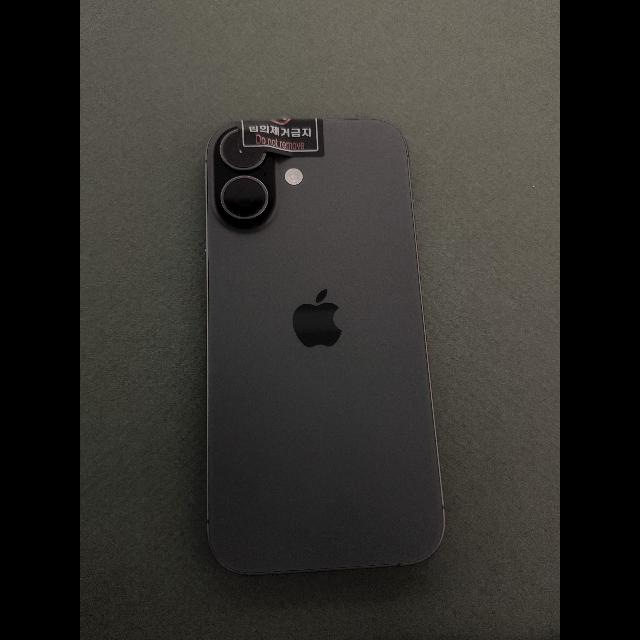lens: (222, 177, 268, 218), (222, 129, 264, 169)
phone: (205, 118, 444, 576)
sticker: (239, 118, 324, 159)
